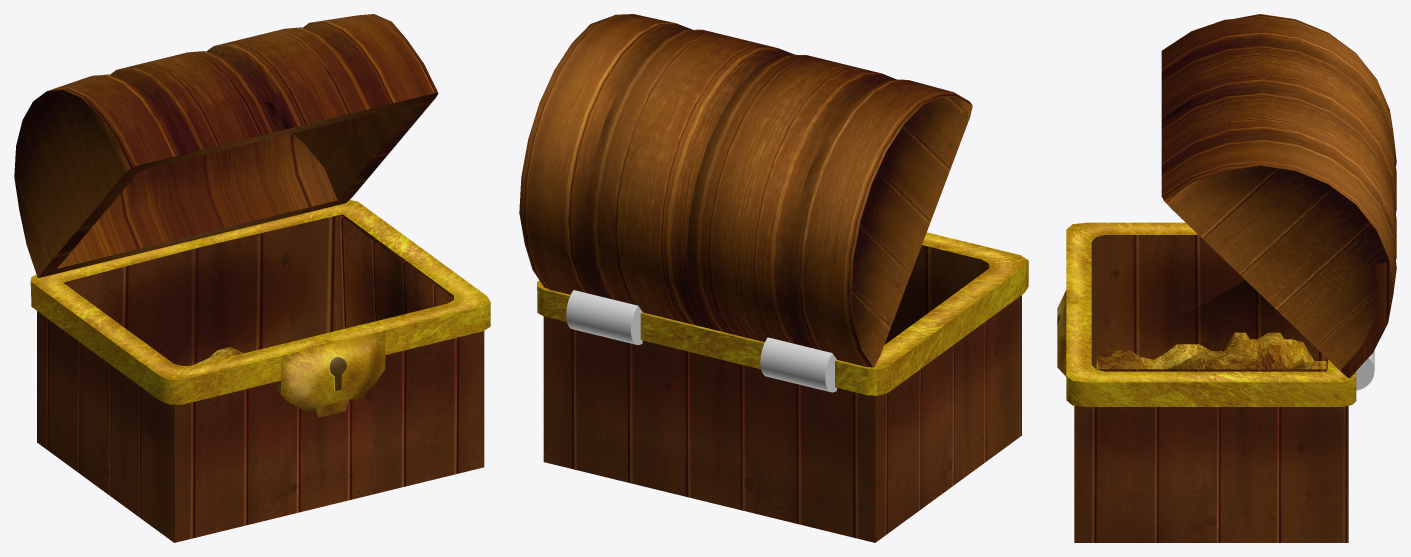
The model's file is Treasure Chest (2).fbx.
3 renders of one model, left to right at view 1: azimuth 30°, elevation 25°; view 2: azimuth 150°, elevation 25°; view 3: azimuth 270°, elevation 25°, orthographic. The views are drawn at different scales.
Parts seen in each view (by area): view 1: Chest, Top; view 2: Top, Chest, Scharnieren; view 3: Chest, Top, Inhoud, Scharnieren.
Boxes of the visible parts, x1=… form: Chest: x1=30, y1=200, x2=490, y2=542; Top: x1=14, y1=14, x2=438, y2=277; Top: x1=519, y1=14, x2=972, y2=367; Chest: x1=537, y1=232, x2=1028, y2=542; Scharnieren: x1=566, y1=290, x2=836, y2=392; Chest: x1=1057, y1=222, x2=1356, y2=542; Top: x1=1161, y1=14, x2=1396, y2=377; Inhoud: x1=1096, y1=332, x2=1326, y2=369; Scharnieren: x1=1356, y1=350, x2=1374, y2=390.
Bounding box in the file's own units: 346 × 384 × 311.
